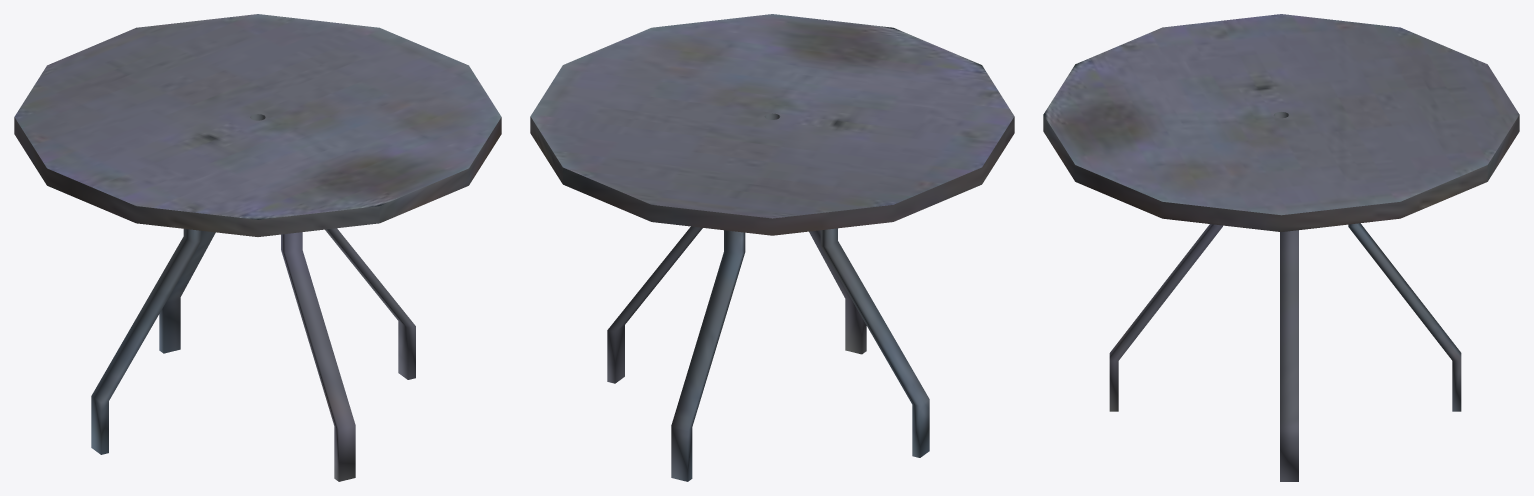
The model's file is patio_table.FBX.
3 views of the same model, side by side, from view 1: azimuth 30°, elevation 25°; view 2: azimuth 150°, elevation 25°; view 3: azimuth 270°, elevation 25° (orthographic). The views are drawn at different scales.
Parts seen in each view (by area): view 1: patio_table; view 2: patio_table; view 3: patio_table.
Boxes of the visible parts, x1,y1,x2,y2 form: patio_table: (14,14,501,481); patio_table: (530,14,1014,481); patio_table: (1043,14,1519,481).
Size of the model in its own units: 64.91 by 43.97 by 64.91.
